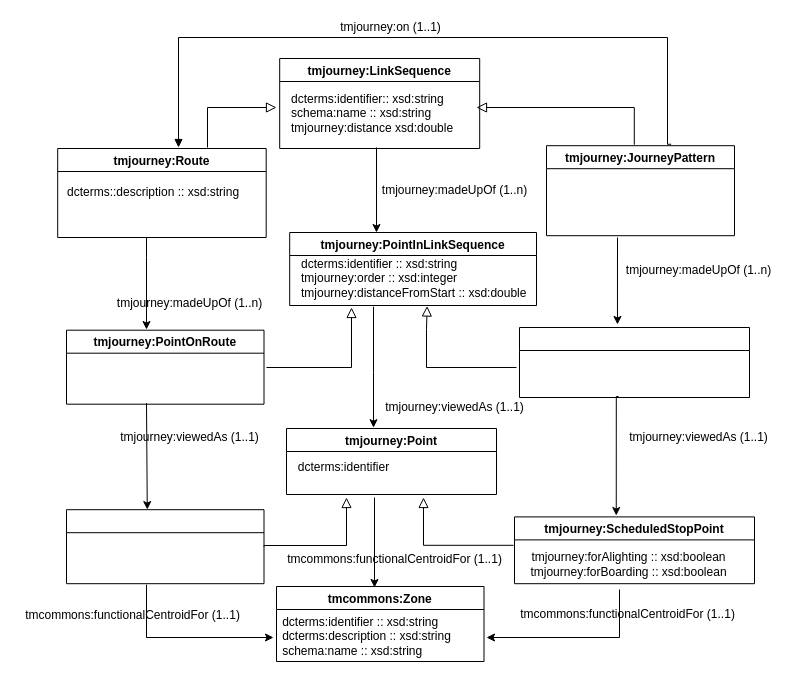
The diagram is 796 pixels wide and 679 high, and some of its shapes have lost their labels. The shapes that lost their labels are listed below. From the top down, each one's centre as x and y in pixels, then its label:
At point 634,362: "tmjourney:StopPointInJourneyPattern".
At point 165,546: "tmjourney:RoutePoint".
